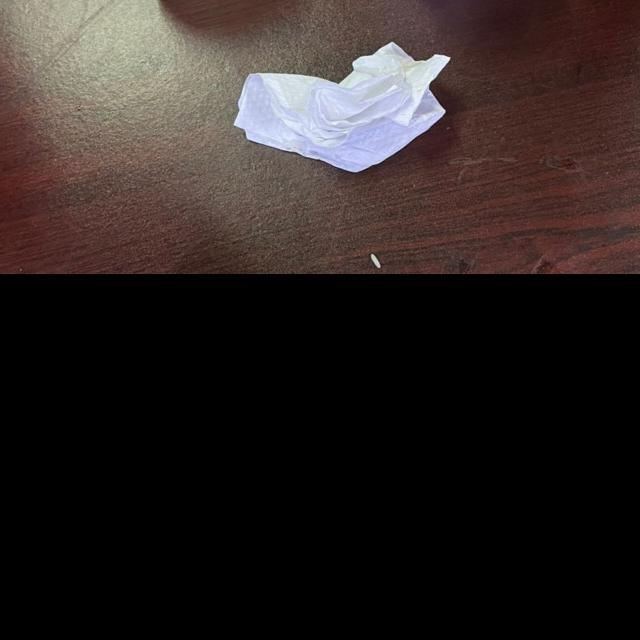kitchen paper: (234, 44, 456, 174)
